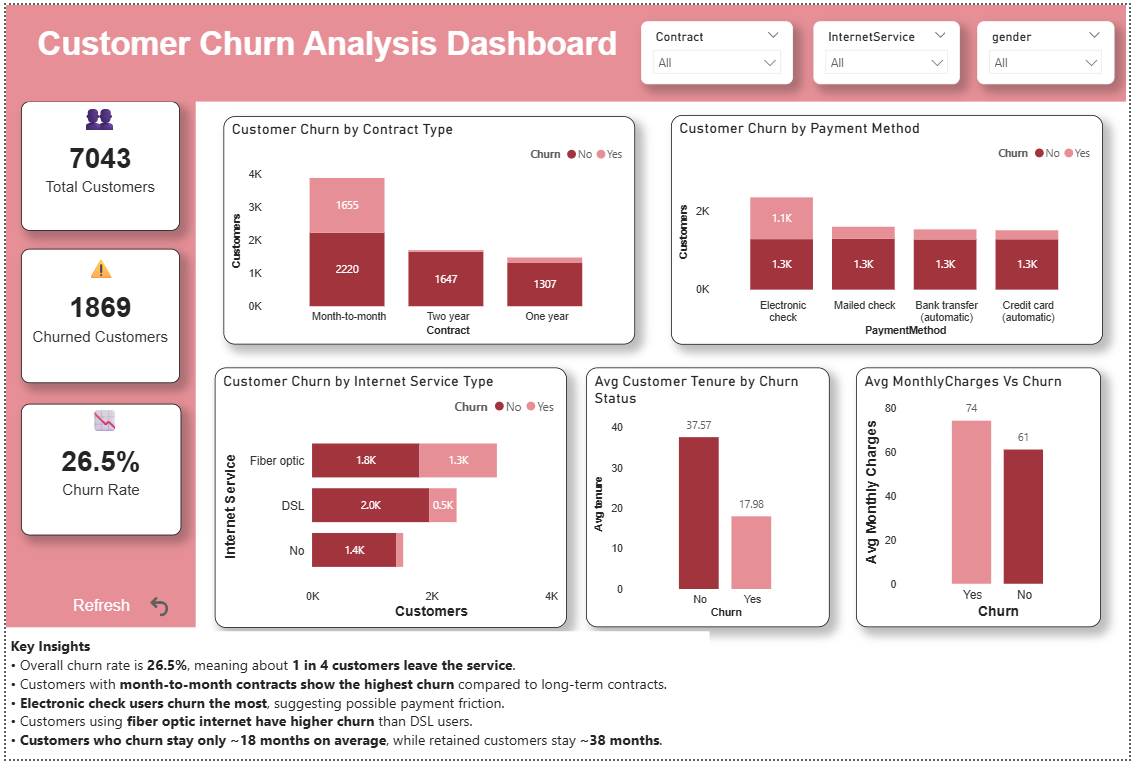

This screenshot's page, from the dashboard's own definition file:
{"tool":"powerbi","page":{"name":"Dashboard","canvas":[1284,862],"ordinal":2},"visuals":[{"type":"textbox","box":[0,0,217.1,711.4],"z":0},{"type":"card","fields":{"Values":["Telco-Customer-Churn.Churn Rate"]},"box":[16.7,455,183.3,150],"z":1000},{"type":"card","title":"Total Customers","fields":{"Values":["CountNonNull(Telco-Customer-Churn.customerID)"]},"box":[16.7,110,181.7,148.3],"z":2000},{"type":"card","fields":{"Values":["Telco-Customer-Churn.Churned Customers"]},"box":[16.7,278.3,181.7,153.3],"z":3000},{"type":"textbox","box":[0,0,1280.3,110.1],"z":4000},{"type":"slicer","fields":{"Values":["Telco-Customer-Churn.gender"]},"box":[1110.3,18.3,156.5,72.1],"z":4001},{"type":"slicer","fields":{"Values":["Telco-Customer-Churn.Contract"]},"box":[726.4,18.3,173.6,72.1],"z":4002},{"type":"slicer","fields":{"Values":["Telco-Customer-Churn.InternetService"]},"box":[923.2,18.3,167.5,72.1],"z":4003},{"type":"columnChart","title":"Customer Churn by Contract Type","fields":{"Series":["Telco-Customer-Churn.Churn"],"Category":["Telco-Customer-Churn.Contract"],"Y":["CountNonNull(Telco-Customer-Churn.customerID)"]},"box":[248.2,127,470.3,261.1],"z":4004},{"type":"barChart","title":"Customer Churn by Internet Service Type","fields":{"Category":["Telco-Customer-Churn.InternetService"],"Series":["Telco-Customer-Churn.Churn"],"Y":["CountNonNull(Telco-Customer-Churn.customerID)"]},"box":[238.1,414.1,402.5,297.2],"z":4005},{"type":"columnChart","title":"Customer Churn by Payment Method","fields":{"Category":["Telco-Customer-Churn.PaymentMethod"],"Series":["Telco-Customer-Churn.Churn"],"Y":["CountNonNull(Telco-Customer-Churn.customerID)"]},"box":[760.3,125.5,493.4,262.6],"z":4006},{"type":"clusteredColumnChart","title":"Avg Customer Tenure by Churn Status","fields":{"Category":["Telco-Customer-Churn.Churn"],"Y":["Avg(Telco-Customer-Churn.tenure)"]},"box":[662.9,414.3,278.6,297.1],"z":4007},{"type":"clusteredColumnChart","title":"Avg MonthlyCharges Vs Churn","fields":{"Category":["Telco-Customer-Churn.Churn"],"Y":["Avg(Telco-Customer-Churn.MonthlyCharges)"]},"box":[971.4,414.3,280,297.1],"z":4008},{"type":"textbox","box":[71.4,671.4,100,54.3],"z":4009},{"type":"actionButton","box":[150,662.9,50,48.6],"z":4010},{"type":"textbox","box":[0,716,804,146],"z":4011},{"type":"textbox","box":[71.7,98.3,95,56.7],"z":4012},{"type":"textbox","box":[91.7,453.3,61.7,76.7],"z":4013},{"type":"textbox","box":[86.7,278.3,73.3,76.7],"z":4014}]}

Visuals, with their boxes in screenshot pixels (x1, y1, x2, y2), scaled from the page's 1284x862 canvas onto the 1131x763 screenshot:
textbox: box(0, 0, 191, 630)
card - Telco-Customer-Churn.Churn Rate: box(15, 403, 176, 536)
"Total Customers" card: box(15, 97, 175, 229)
card - Telco-Customer-Churn.Churned Customers: box(15, 246, 175, 382)
textbox: box(0, 0, 1128, 97)
slicer - Telco-Customer-Churn.gender: box(978, 16, 1116, 80)
slicer - Telco-Customer-Churn.Contract: box(640, 16, 793, 80)
slicer - Telco-Customer-Churn.InternetService: box(813, 16, 961, 80)
"Customer Churn by Contract Type" columnChart: box(219, 112, 633, 344)
"Customer Churn by Internet Service Type" barChart: box(210, 367, 564, 630)
"Customer Churn by Payment Method" columnChart: box(670, 111, 1104, 344)
"Avg Customer Tenure by Churn Status" clusteredColumnChart: box(584, 367, 829, 630)
"Avg MonthlyCharges Vs Churn" clusteredColumnChart: box(856, 367, 1102, 630)
textbox: box(63, 594, 151, 642)
actionButton: box(132, 587, 176, 630)
textbox: box(0, 634, 708, 762)
textbox: box(63, 87, 147, 137)
textbox: box(81, 401, 135, 469)
textbox: box(76, 246, 141, 314)
